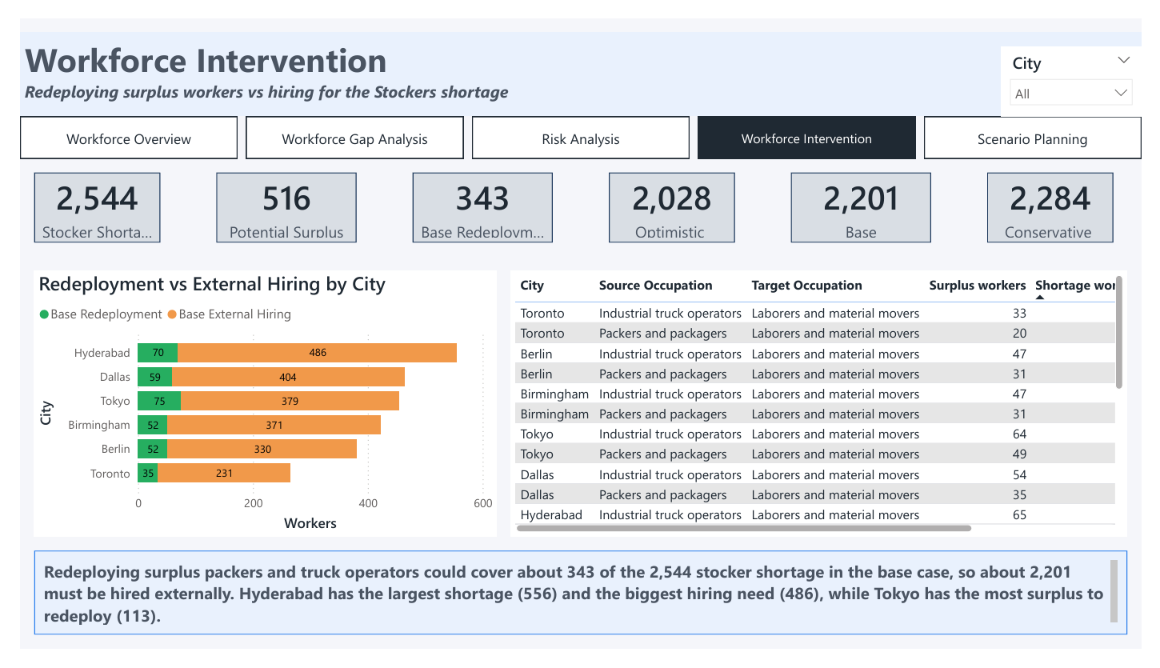

Layout of this report page (visuals, bound fields, positions):
{"tool":"powerbi","page":{"name":"Workforce Intervention","canvas":[1280,720],"ordinal":3},"visuals":[{"type":"textbox","box":[0,16,1280,96],"z":0},{"type":"pageNavigator","box":[0,112,1280,48],"z":1000},{"type":"card","fields":{"Values":["_Measures.Stocker Shortage"]},"box":[16,176,144,80],"z":2000},{"type":"card","fields":{"Values":["_Measures.Potential Surplus"]},"box":[224,176,160,80],"z":3000},{"type":"card","fields":{"Values":["_Measures.Base Redeployment"]},"box":[448,176,160,80],"z":4000},{"type":"barChart","title":"Redeployment vs External Hiring by City","fields":{"Category":["facilities.City"],"Y":["_Measures.Base Redeployment","_Measures.Base External Hiring"]},"box":[16,288,528,304],"z":5000},{"type":"card","fields":{"Values":["_Measures.Base External Hiring"]},"box":[880,176,160,80],"z":6000},{"type":"card","fields":{"Values":["_Measures.Optimistic External Hiring"]},"box":[672,176,144,80],"z":7000},{"type":"card","fields":{"Values":["_Measures.Conservative External Hiring"]},"box":[1104,176,144,80],"z":8000},{"type":"tableEx","fields":{"Values":["vw_cross_training.city","vw_cross_training.source_occupation","vw_cross_training.target_occupation","Sum(vw_cross_training.surplus_workers)","Sum(vw_cross_training.shortage_workers)","Sum(vw_cross_training.skill_overlap_percentage)"]},"box":[560,288,704,304],"z":9000},{"type":"textbox","box":[16,608,1248,96],"z":10000},{"type":"slicer","fields":{"Values":["facilities.city"]},"box":[1120,32,160,80],"z":11000}]}

Visuals, with their boxes in screenshot pixels (x1, y1, x2, y2), scaled from the page's 1280x720 canvas onto the 1160x668 screenshot:
textbox: 0, 15, 1159, 104
pageNavigator: 0, 104, 1159, 148
card - _Measures.Stocker Shortage: 14, 163, 145, 238
card - _Measures.Potential Surplus: 203, 163, 348, 238
card - _Measures.Base Redeployment: 406, 163, 551, 238
"Redeployment vs External Hiring by City" barChart: 14, 267, 493, 549
card - _Measures.Base External Hiring: 798, 163, 942, 238
card - _Measures.Optimistic External Hiring: 609, 163, 740, 238
card - _Measures.Conservative External Hiring: 1000, 163, 1131, 238
tableEx - vw_cross_training.city x vw_cross_training.source_occupation: 508, 267, 1146, 549
textbox: 14, 564, 1146, 653
slicer - facilities.city: 1015, 30, 1159, 104
